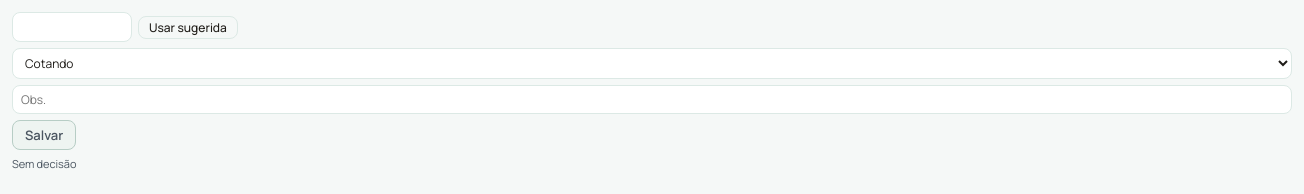
Scenario: ForecastDecisaoCompra (celula) › erro: alerta com a mensagem e "Tentar de novo" reenvia o MESMO corpo
In the field named "Qtd. decidida (kg) de PRODUTO 001": [72, 27] box x1=12 y1=12 x2=132 y2=42, type "10"
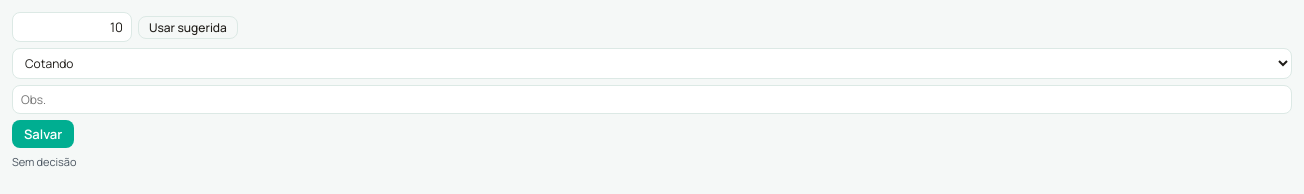
Click the button with aria-label "Salvar decisão": [43, 134] box x1=12 y1=120 x2=74 y2=148
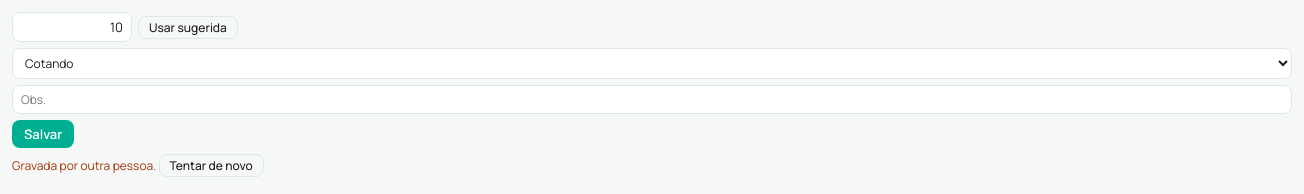
expect the message shows "Gravada por outra pessoa.": met, box x1=12 y1=157 x2=156 y2=174
Click the button "Tentar de novo": [211, 166] box x1=159 y1=154 x2=264 y2=177
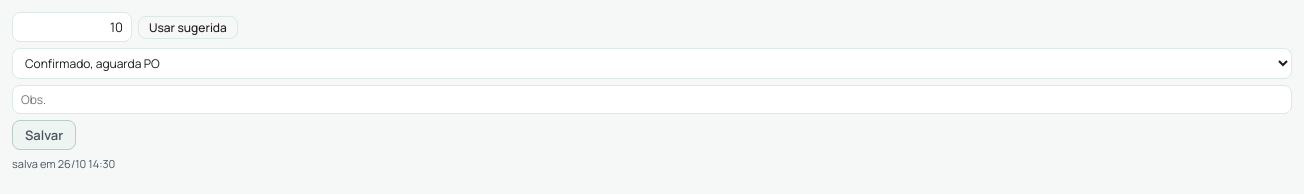
expect the message "salva em 26/10 14:30" is shown: met, box x1=12 y1=156 x2=115 y2=171
